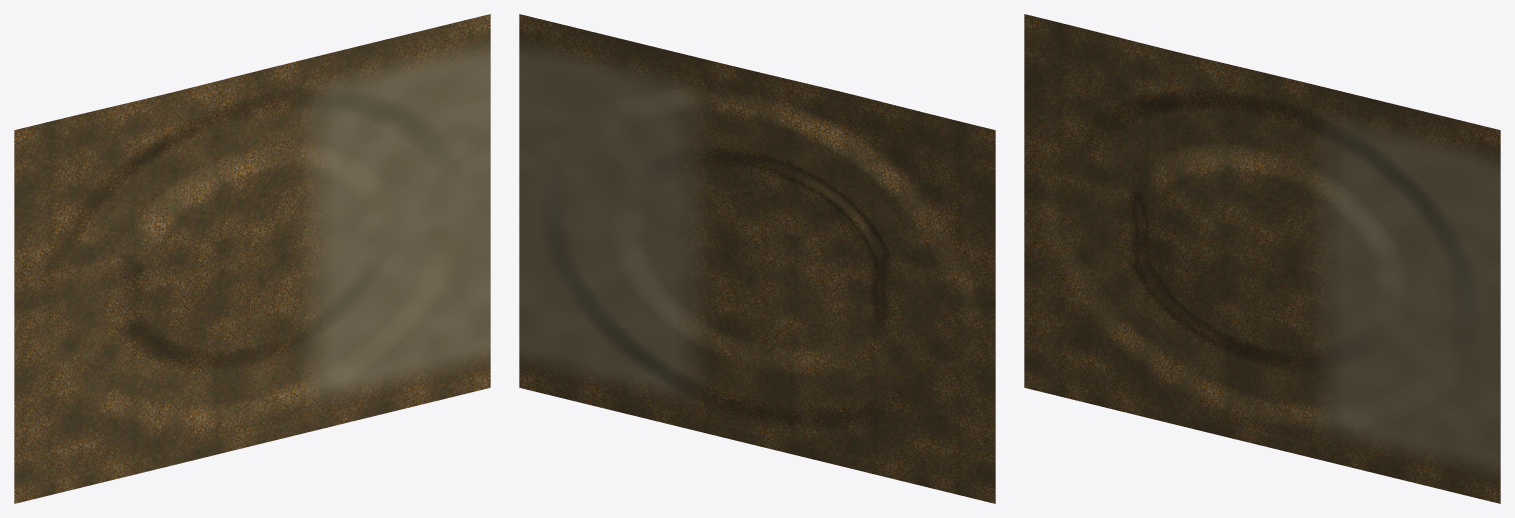
File: terrain.obj
The picture shows the model from 3 angles, left to right: view 1: azimuth 30°, elevation 25°; view 2: azimuth 150°, elevation 25°; view 3: azimuth 330°, elevation 25°; orthographic projection.
Visible parts, largest first — view 1: terrain; view 2: terrain; view 3: terrain.
Part boxes in pixels (x1=…): terrain: x1=14, y1=14, x2=490, y2=503; terrain: x1=519, y1=14, x2=995, y2=503; terrain: x1=1024, y1=14, x2=1500, y2=503.
Size of the model in its own units: 80 by 60 by 2.1.
1 material, 1 textured.
